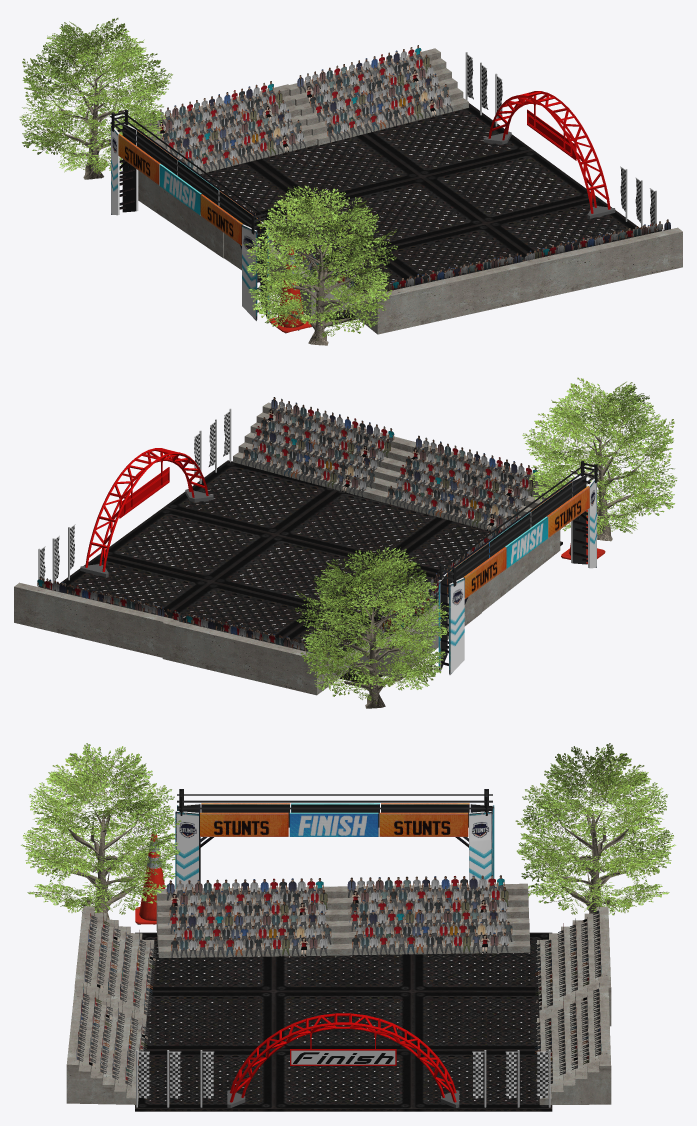
The model's file is the _end.fbx.
The picture shows the model from 3 angles, top to bottom: view 1: azimuth 30°, elevation 25°; view 2: azimuth 150°, elevation 25°; view 3: azimuth 270°, elevation 25°; orthographic projection. The views are drawn at different scales.
Visible parts, largest first — view 1: Check_Point, oak, khandai, peoples, end, Arch, polySurface21, VlC, finish; view 2: Check_Point, oak, khandai, peoples, end, Arch, polySurface21, finish; view 3: Check_Point, oak, khandai, peoples, end, Arch, polySurface21, finish, VlC.
Boxes of the visible parts, <box> form: Check_Point: <box>200,103,640,325</box>; oak: <box>19,18,397,345</box>; khandai: <box>138,48,682,334</box>; peoples: <box>150,45,670,294</box>; end: <box>110,110,269,320</box>; Arch: <box>483,91,615,219</box>; polySurface21: <box>465,52,656,227</box>; VlC: <box>269,247,311,333</box>; finish: <box>527,109,576,160</box>; Check_Point: <box>59,460,562,684</box>; oak: <box>295,377,676,708</box>; khandai: <box>14,402,560,695</box>; peoples: <box>37,397,537,658</box>; end: <box>437,461,598,674</box>; Arch: <box>80,448,213,577</box>; polySurface21: <box>38,408,231,587</box>; finish: <box>119,467,169,518</box>; Check_Point: <box>135,932,552,1111</box>; oak: <box>21,743,675,919</box>; khandai: <box>66,883,611,1104</box>; peoples: <box>76,875,601,1092</box>; end: <box>175,789,494,888</box>; Arch: <box>227,1013,459,1107</box>; polySurface21: <box>136,1050,550,1107</box>; finish: <box>290,1049,396,1065</box>; VlC: <box>135,834,165,924</box>.
Bounding box in the file's own units: 5128 × 1810 × 6414.
